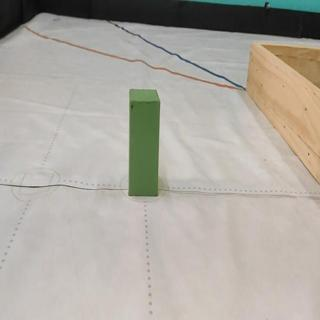greenbox: (124, 85, 162, 200)
